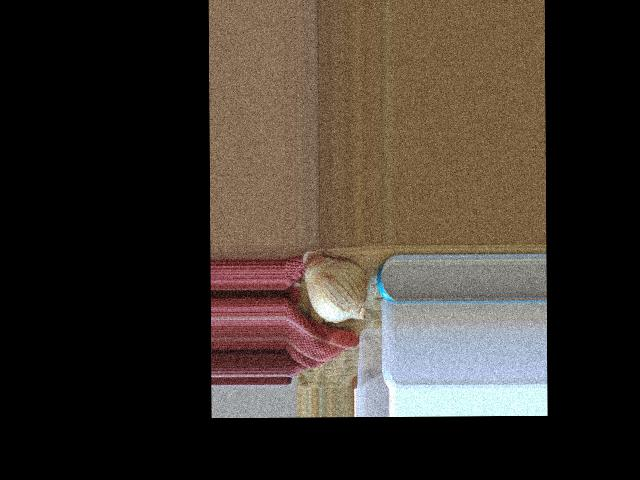onion: (302, 251, 370, 322)
